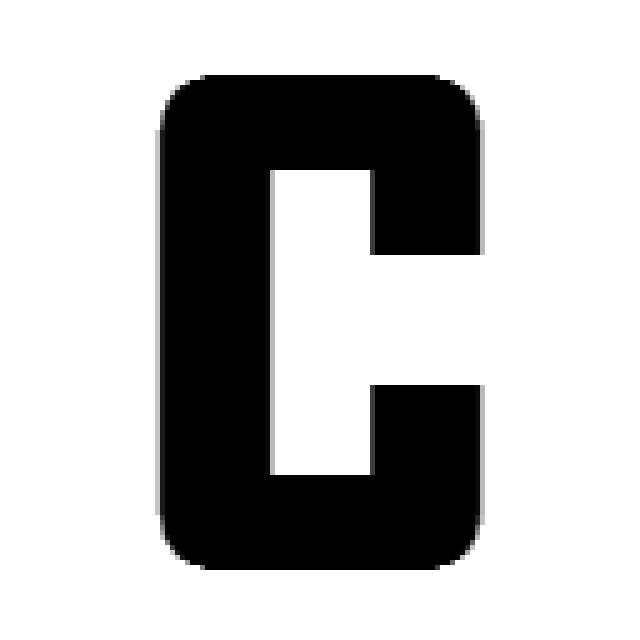C: (150, 65, 490, 570)
